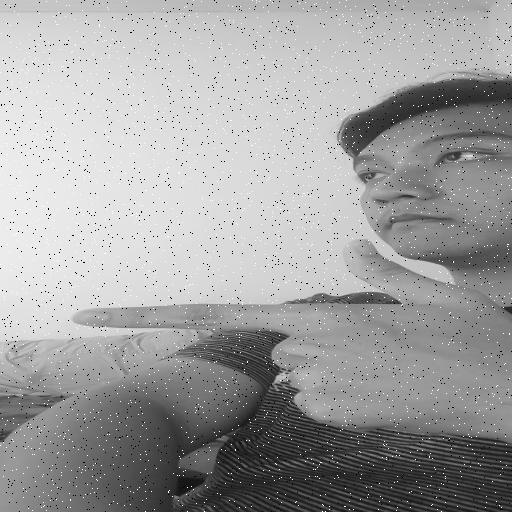next: (67, 235, 512, 452)
